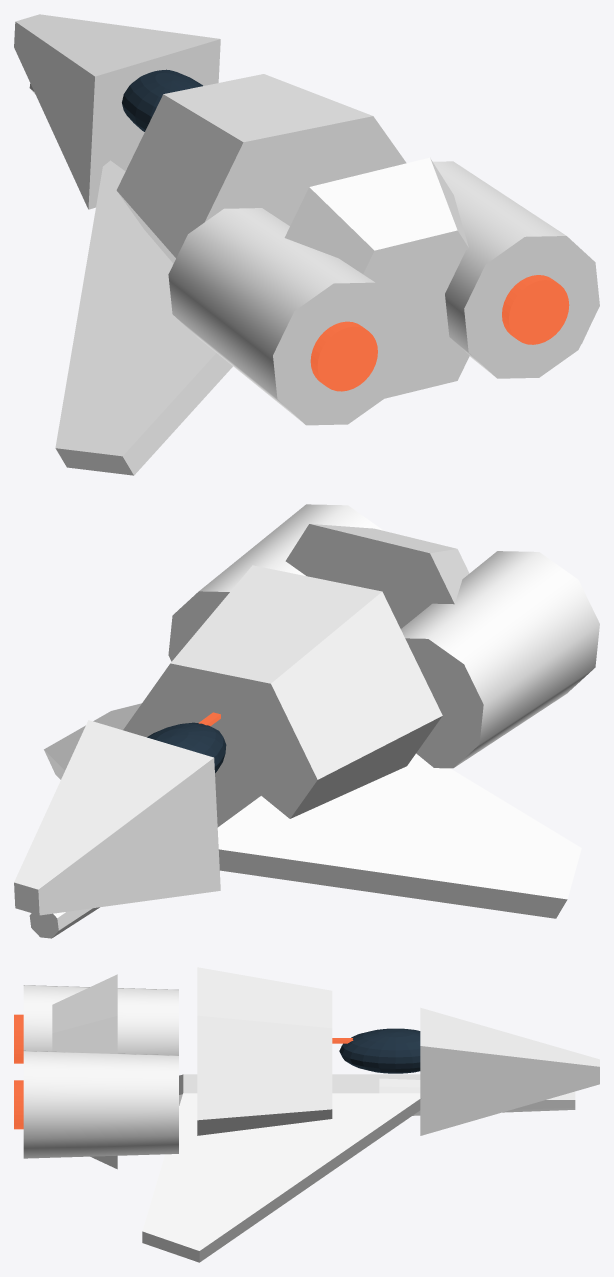
Rendered from SHIP_Enemy_Interceptor_01.glb.
3 views of the same model, one above another, from view 1: azimuth 30°, elevation 25°; view 2: azimuth 150°, elevation 25°; view 3: azimuth 270°, elevation 25° (orthographic). The views are drawn at different scales.
Parts seen in each view (by area): view 1: Ship_Body, Engine_L, Wing_L, Engine_R, Engine_L_Core, Engine_R_Core, Cockpit; view 2: Ship_Body, Wing_L, Engine_L, Engine_R, Cockpit, Wing_R, Weapon_C; view 3: Ship_Body, Wing_R, Engine_R, Engine_L, Cockpit, Wing_L, Weapon_C, Engine_L_Core, Engine_R_Core.
Boxes of the visible parts, bbox=[...] form: Ship_Body: bbox=[14, 14, 469, 398]; Engine_L: bbox=[168, 208, 408, 425]; Wing_L: bbox=[55, 160, 232, 475]; Engine_R: bbox=[433, 161, 599, 378]; Engine_L_Core: bbox=[310, 321, 377, 391]; Engine_R_Core: bbox=[502, 275, 569, 344]; Cockpit: bbox=[122, 69, 202, 131]; Ship_Body: bbox=[14, 524, 469, 915]; Wing_L: bbox=[217, 753, 581, 918]; Engine_L: bbox=[401, 551, 599, 768]; Engine_R: bbox=[168, 504, 383, 661]; Cockpit: bbox=[147, 722, 226, 772]; Wing_R: bbox=[44, 703, 141, 779]; Weapon_C: bbox=[29, 907, 99, 938]; Ship_Body: bbox=[52, 967, 599, 1169]; Wing_R: bbox=[142, 1093, 421, 1262]; Engine_R: bbox=[23, 1050, 178, 1158]; Engine_L: bbox=[23, 985, 178, 1055]; Cockpit: bbox=[339, 1028, 420, 1073]; Wing_L: bbox=[179, 1074, 420, 1105]; Weapon_C: bbox=[379, 1078, 575, 1115]; Engine_L_Core: bbox=[14, 1014, 23, 1063]; Engine_R_Core: bbox=[14, 1080, 23, 1129].
Size of what is drawn, in the model's own units: 3.47 by 1.79 by 4.78.
